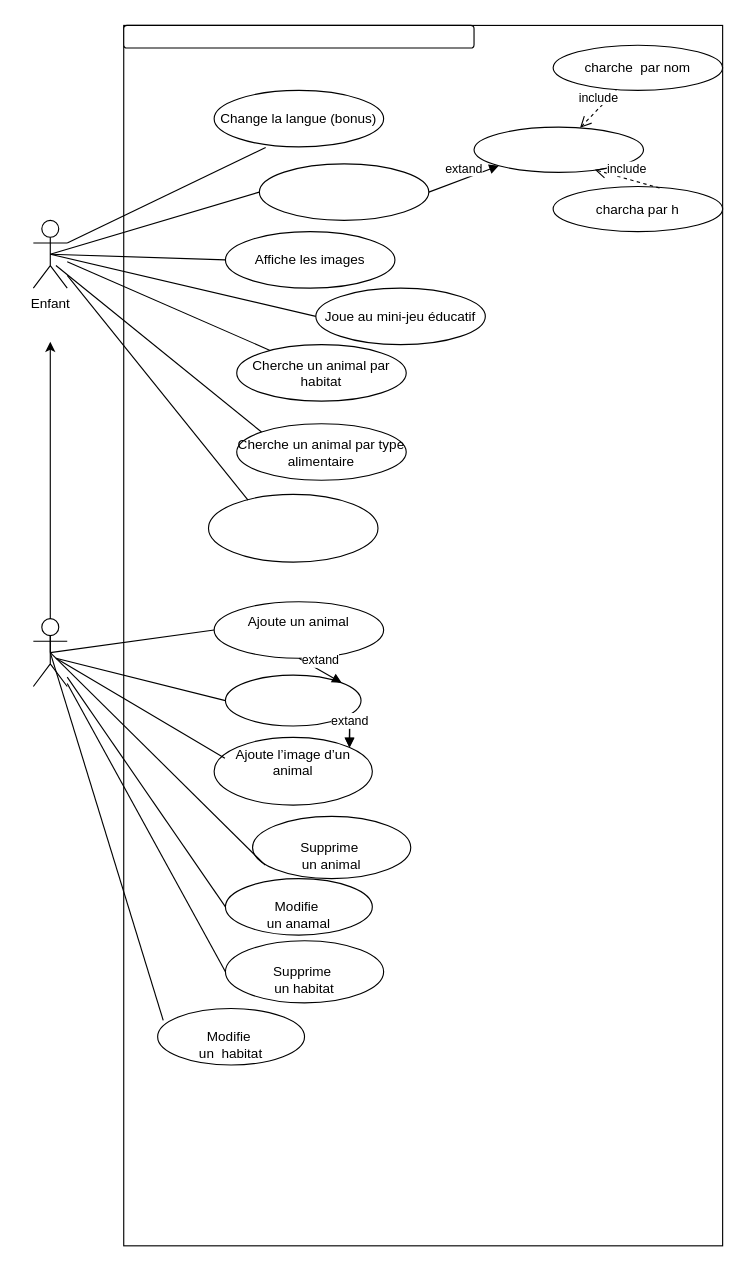
Some shapes in this 742 by 1266 pixel diagram are drawn without their labels. Here are the shapes that lost their labels. From the top down, the box of each, then its label:
(123, 24, 474, 48): Application éducative sur les animaux du zoo
(473, 126, 644, 172): filtrer
(258, 163, 429, 220): Affiche la liste des animaux
(207, 493, 378, 562): Consulte les statistiques
(32, 618, 67, 686): Éducateur
(224, 674, 361, 726): Ajoute un habitat
